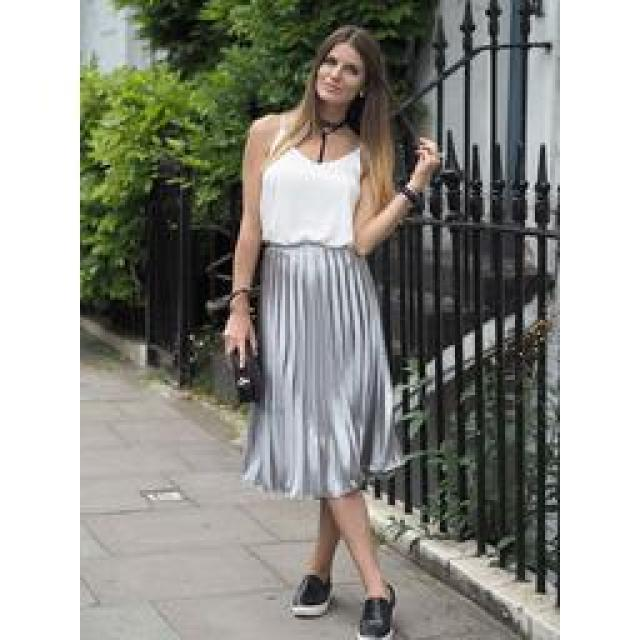Tshirt: (259, 110, 371, 250)
skirt: (239, 233, 411, 495)
